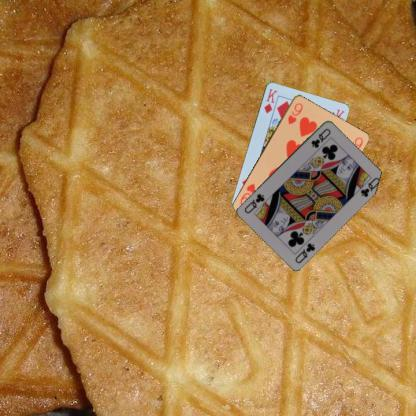9h: (285, 100, 304, 125)
Kd: (261, 86, 279, 114)
Qc: (292, 240, 317, 265), (309, 125, 332, 149)
